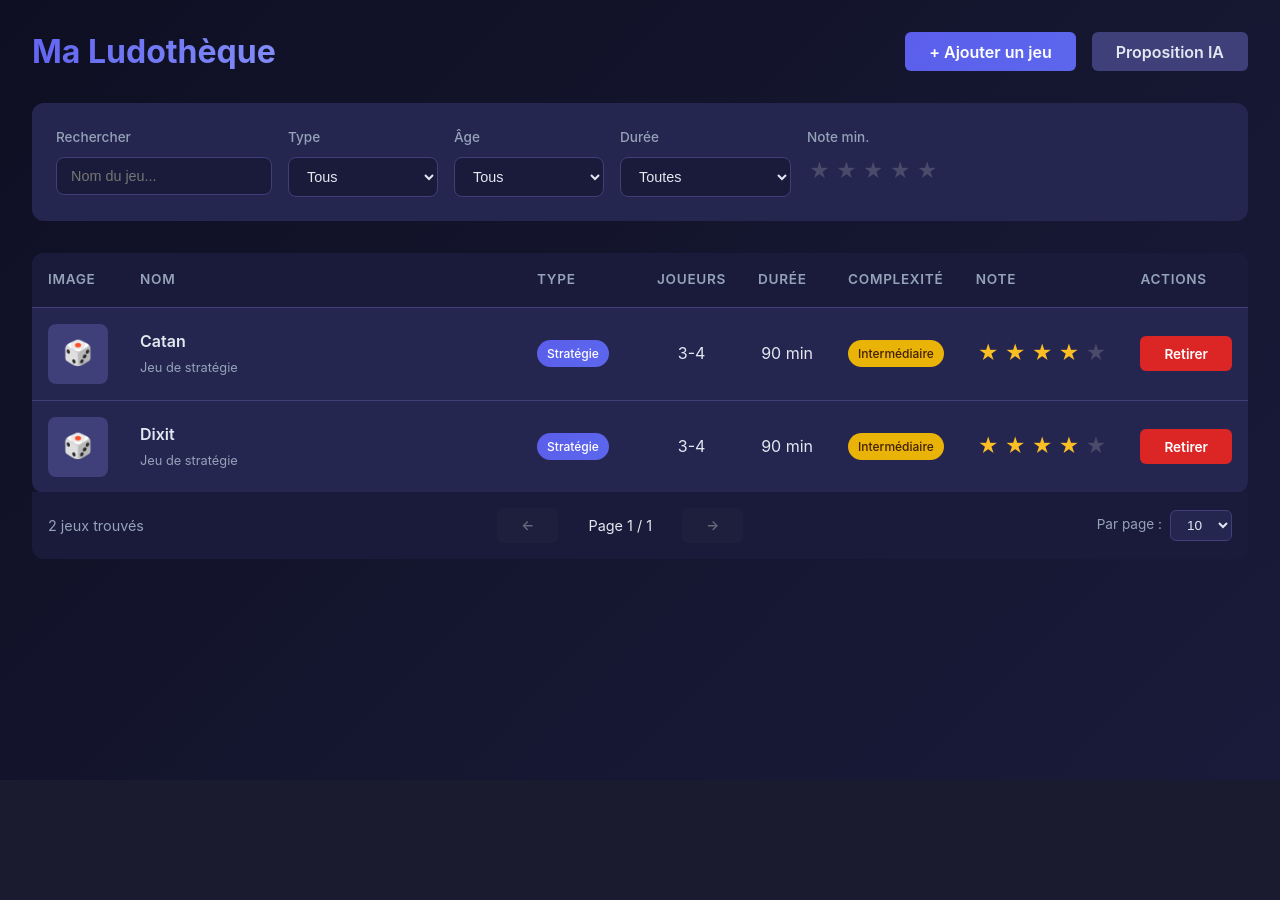
Scenario: LudothequePage › filters games by name
Expected: the text "Catan" is shown, top-left (140, 331), bottom-right (186, 351)
Expected: the text "Dixit" is shown, top-left (140, 424), bottom-right (175, 444)
Type "cat" into the field with placeholder "Nom du jeu..." at [164, 176], box top-left (56, 157), bottom-right (272, 195)
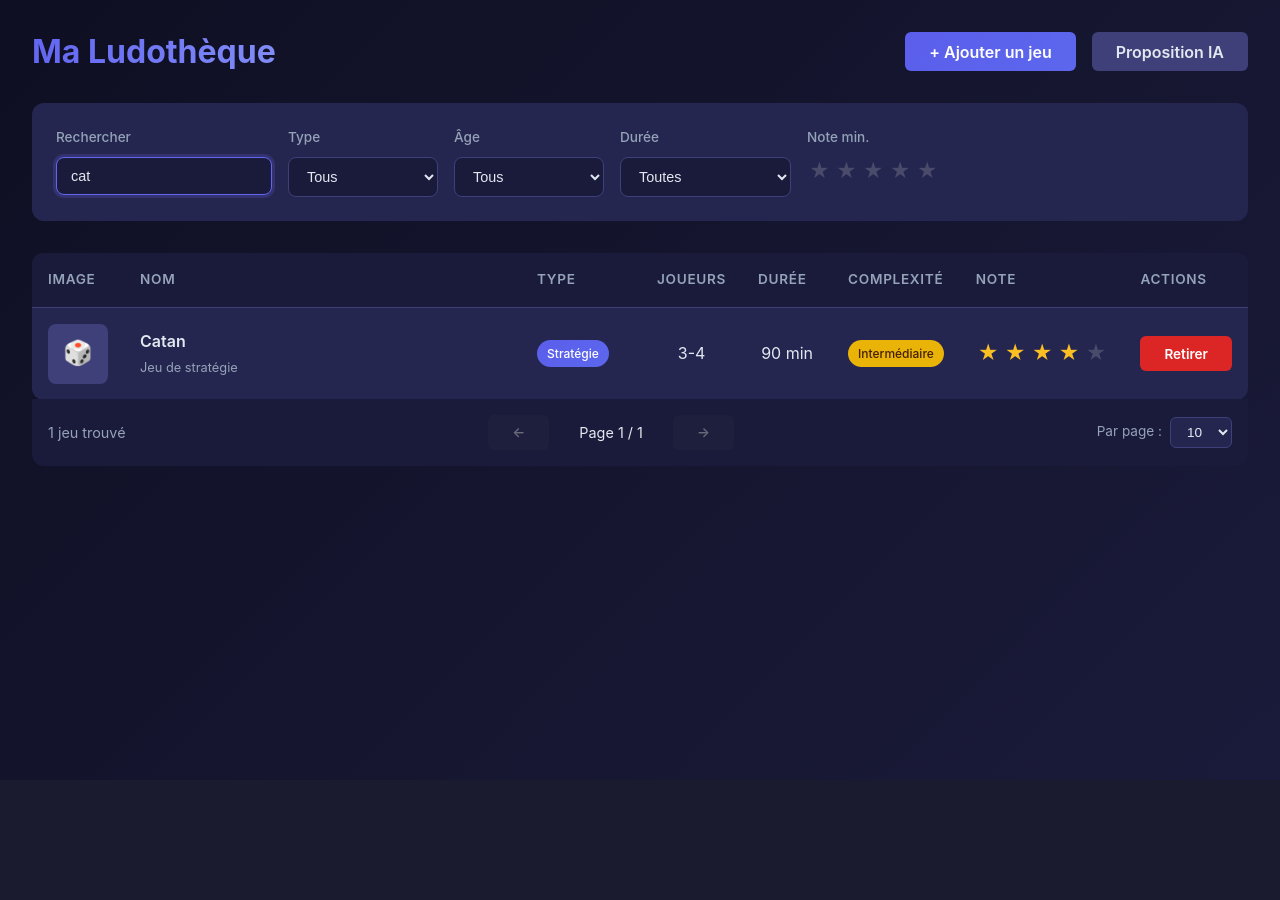
Expected: the text "Catan" is shown, top-left (140, 331), bottom-right (186, 351)
Expected: the text "Dixit" is gone
